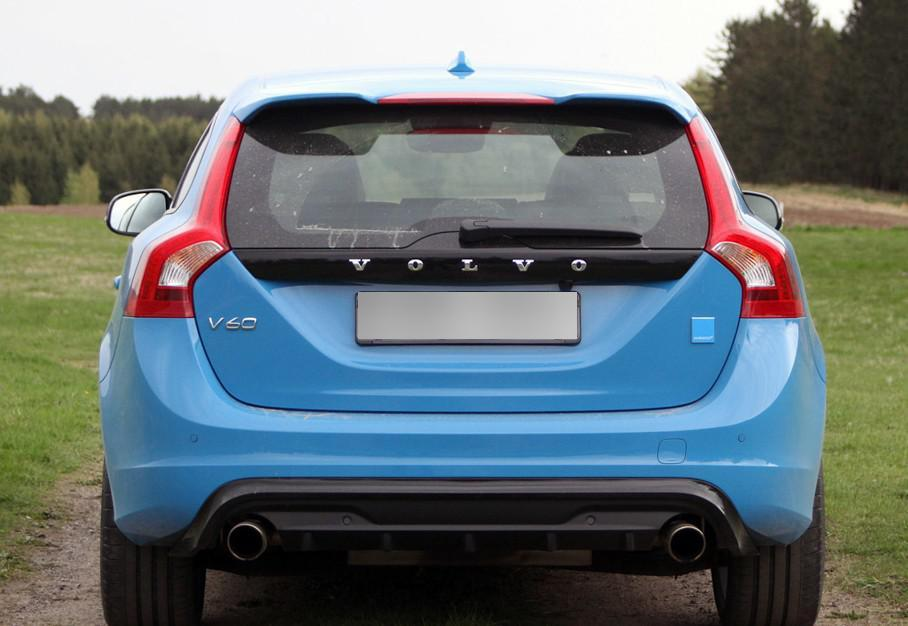Wagon: (98, 49, 828, 626)
